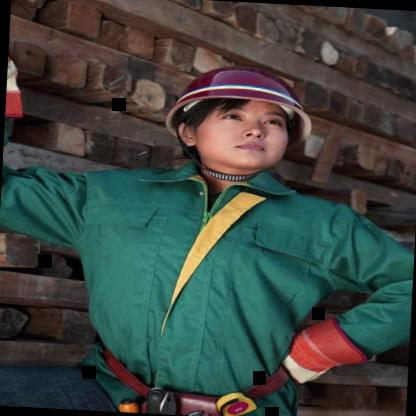helmet: (150, 52, 326, 186)
